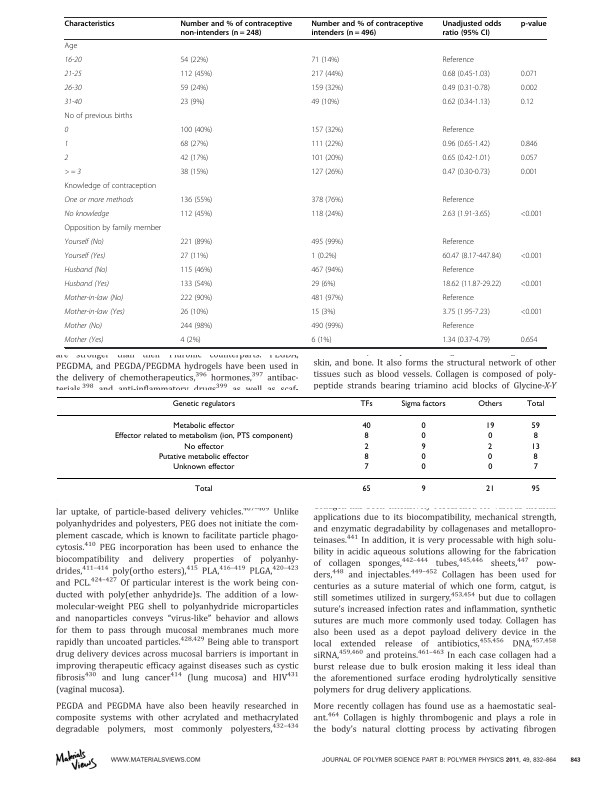borderless: (63, 16, 546, 347), (55, 395, 557, 502)
cell: (179, 20, 293, 38), (310, 20, 424, 38), (113, 432, 293, 442), (441, 20, 502, 38), (64, 224, 162, 234), (64, 182, 157, 192), (157, 452, 249, 462), (64, 112, 133, 122), (171, 399, 236, 409), (64, 196, 134, 205), (441, 252, 502, 262), (441, 280, 502, 290), (172, 422, 235, 431), (172, 463, 235, 472), (64, 308, 126, 317), (64, 294, 124, 303), (441, 70, 491, 80), (441, 84, 491, 94), (441, 98, 491, 108), (441, 140, 491, 150), (441, 154, 491, 164), (441, 168, 491, 178), (441, 210, 491, 220), (441, 308, 491, 318), (441, 336, 491, 346), (64, 20, 116, 29), (64, 210, 110, 220), (400, 399, 446, 409), (64, 280, 110, 289), (183, 442, 224, 452), (64, 266, 108, 275), (64, 252, 106, 261), (64, 238, 105, 247), (64, 336, 104, 345), (64, 322, 103, 331), (441, 56, 475, 66), (179, 70, 213, 80), (310, 70, 344, 80), (310, 84, 344, 94), (179, 126, 213, 136), (310, 126, 344, 136), (441, 126, 475, 136), (310, 140, 344, 150), (310, 154, 344, 164), (310, 168, 344, 178), (179, 196, 213, 206), (310, 196, 344, 206), (441, 196, 475, 206), (179, 210, 213, 220), (310, 210, 344, 220), (179, 238, 213, 248), (310, 238, 344, 248), (441, 238, 475, 248), (179, 266, 213, 276), (310, 266, 344, 276), (441, 266, 475, 276), (179, 280, 213, 290), (179, 294, 213, 304), (310, 294, 344, 304), (441, 294, 475, 304), (179, 322, 213, 332), (310, 322, 344, 332), (441, 322, 475, 332), (179, 56, 209, 66), (310, 56, 340, 66), (179, 84, 209, 94), (310, 98, 340, 108), (179, 140, 209, 150), (179, 154, 209, 164), (179, 168, 209, 178), (179, 252, 209, 262), (179, 308, 209, 318), (310, 252, 338, 262), (179, 98, 205, 108), (310, 280, 336, 290), (310, 308, 336, 318), (477, 399, 503, 409), (520, 20, 547, 29), (520, 210, 543, 220), (520, 252, 543, 262), (520, 280, 543, 290), (520, 308, 543, 318), (179, 336, 201, 346), (310, 336, 332, 346), (525, 399, 545, 409), (194, 485, 213, 495), (520, 70, 538, 80), (520, 84, 538, 94), (520, 140, 538, 150), (520, 154, 538, 164), (520, 168, 538, 178), (520, 336, 538, 346), (64, 56, 82, 65), (64, 70, 82, 79), (64, 84, 82, 93), (64, 98, 82, 107), (64, 168, 82, 177), (520, 98, 535, 108), (64, 42, 78, 52), (359, 399, 373, 409), (530, 442, 540, 452), (361, 485, 371, 495), (485, 485, 495, 495), (530, 485, 540, 495), (361, 422, 371, 431), (485, 422, 495, 431), (530, 422, 540, 431), (363, 432, 369, 442), (420, 432, 426, 442), (487, 432, 493, 442), (532, 432, 538, 442), (363, 442, 369, 452), (420, 442, 426, 452), (487, 442, 493, 452), (363, 452, 369, 462), (420, 452, 426, 462), (487, 452, 493, 462), (532, 452, 538, 462), (420, 485, 426, 495), (420, 422, 426, 431), (363, 463, 369, 472), (420, 463, 426, 472), (487, 463, 493, 472), (532, 463, 538, 472), (64, 126, 69, 135), (64, 140, 69, 149), (64, 154, 69, 163)
